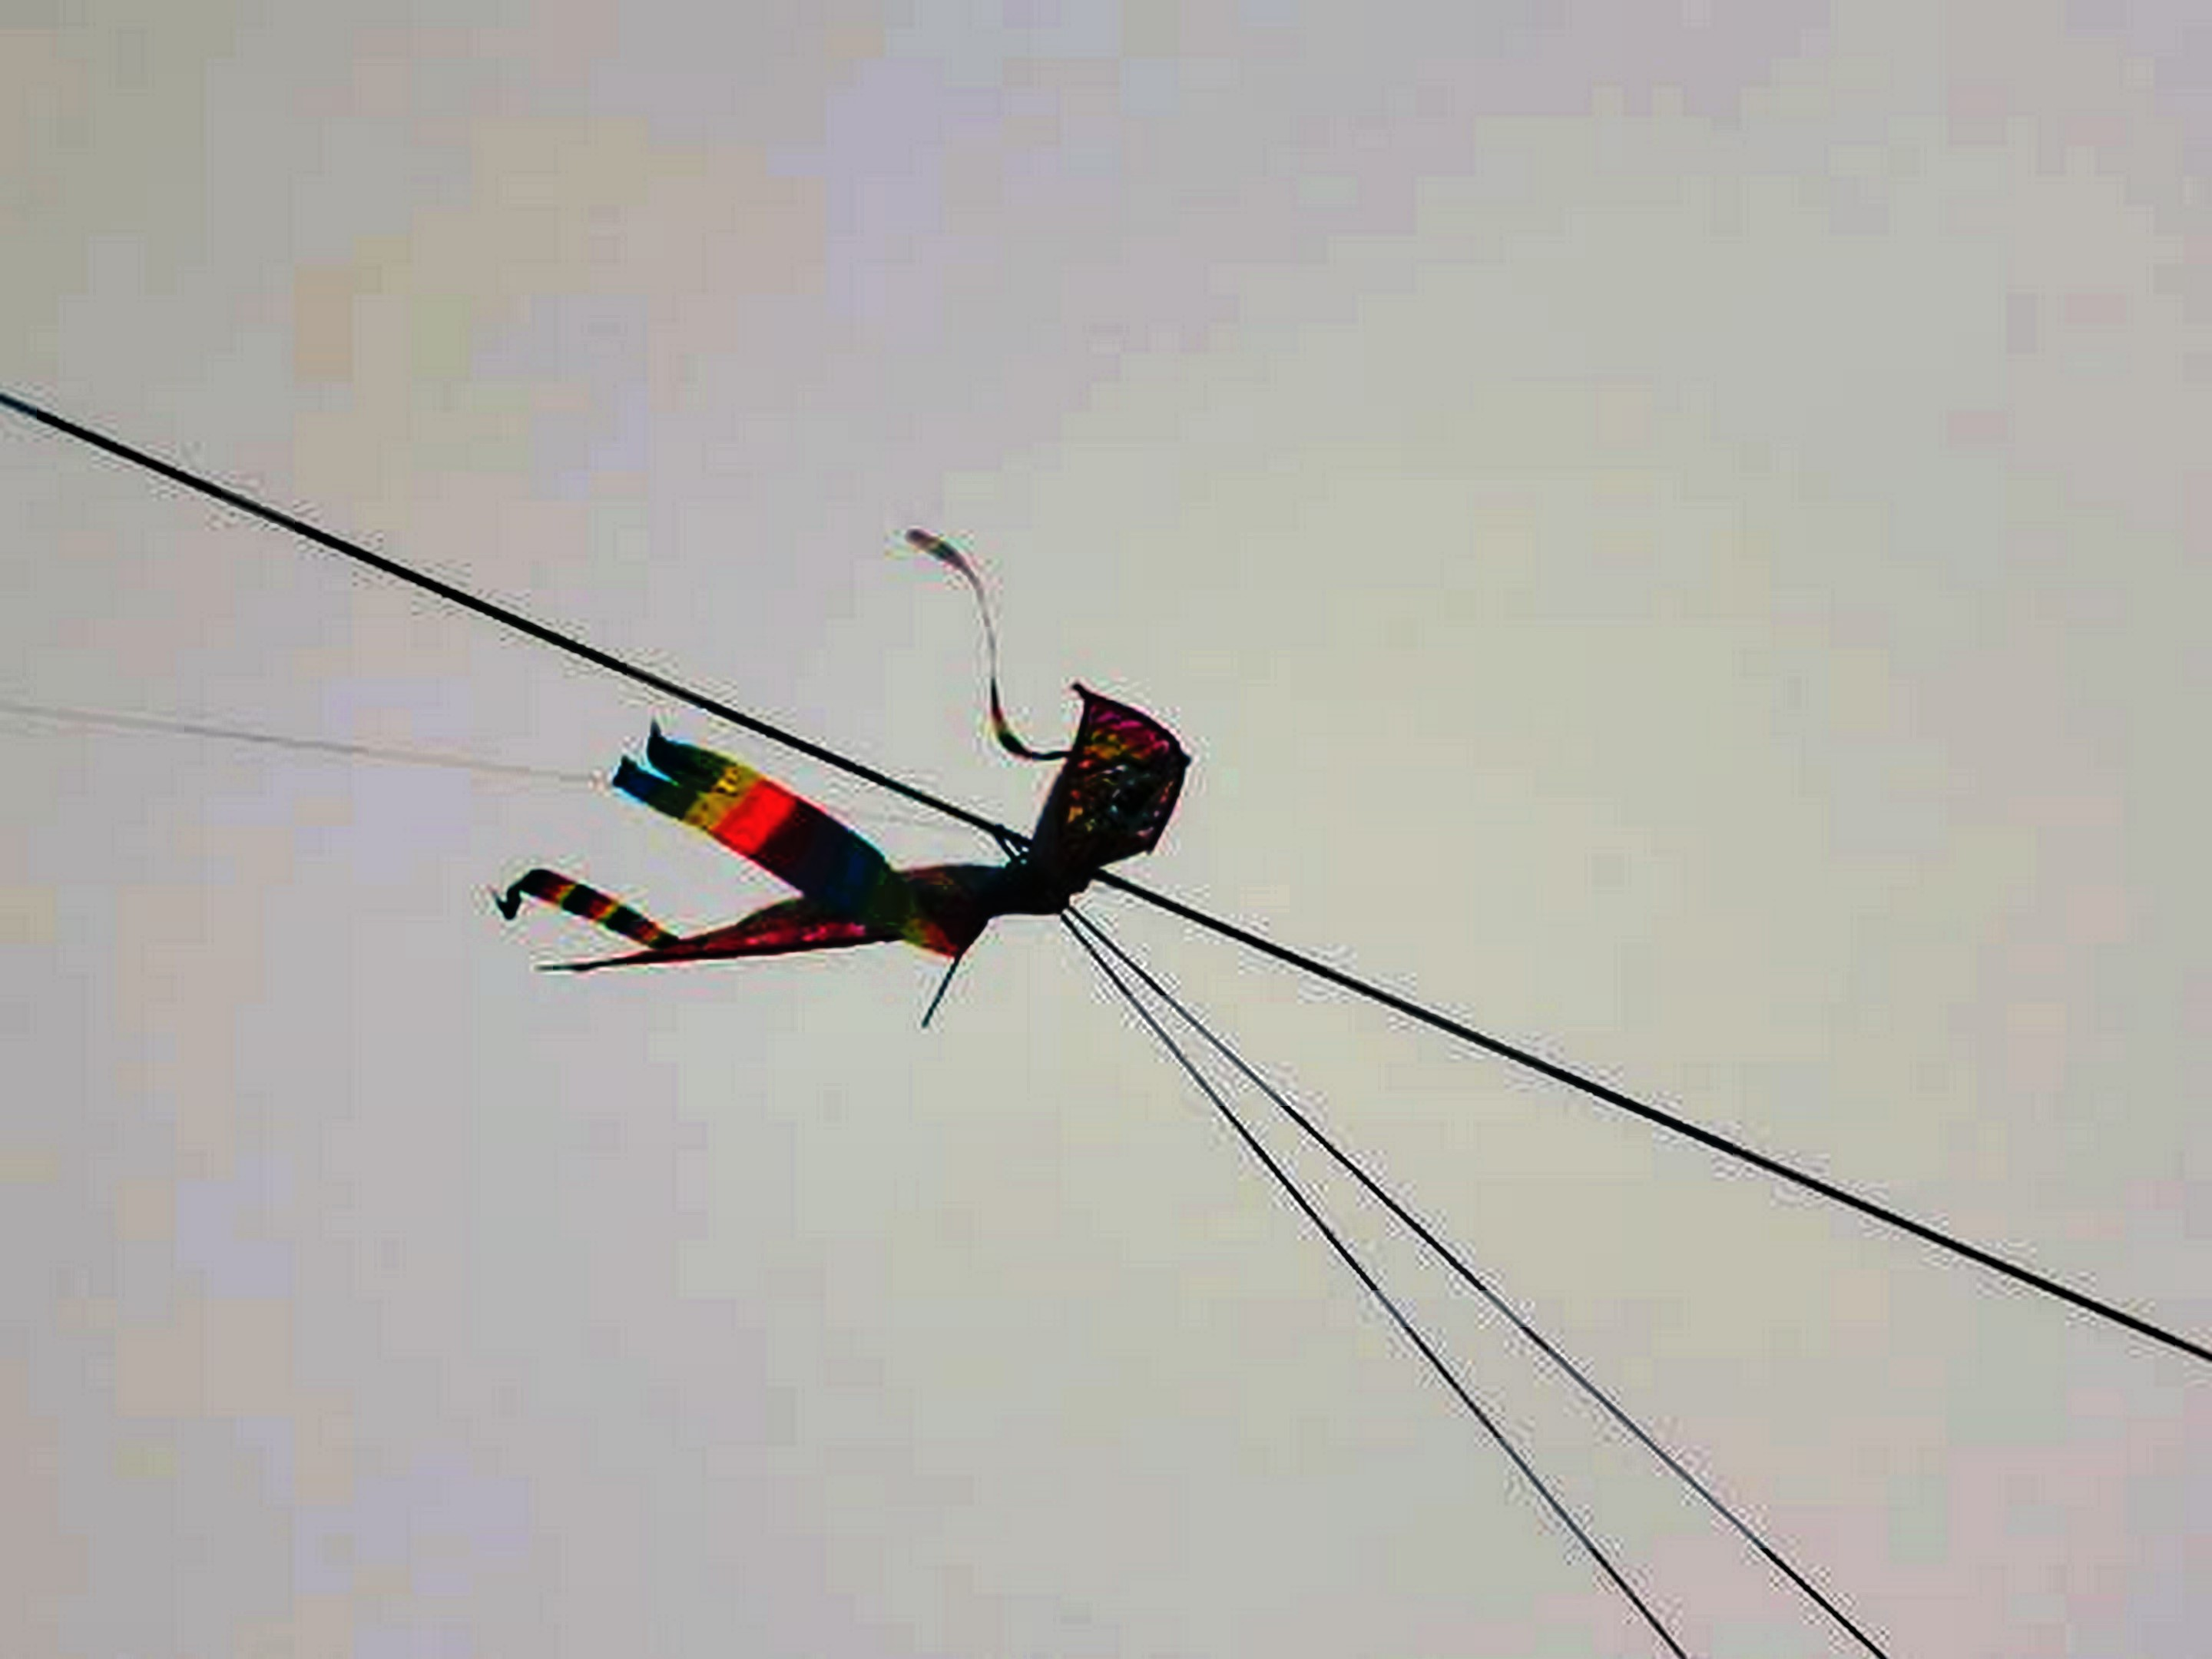wire foreign body: (469, 631, 1233, 1077)
